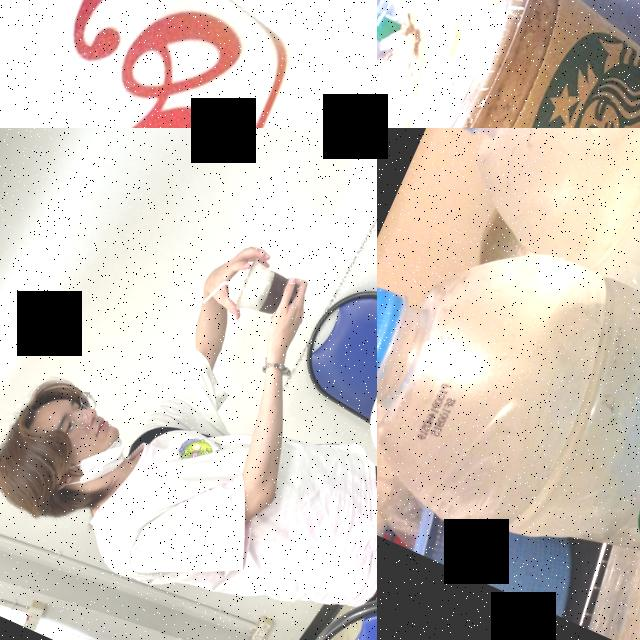bottle: (377, 186, 640, 640), (408, 128, 640, 422)
cup: (0, 0, 377, 128), (377, 0, 640, 128), (226, 253, 309, 331)
